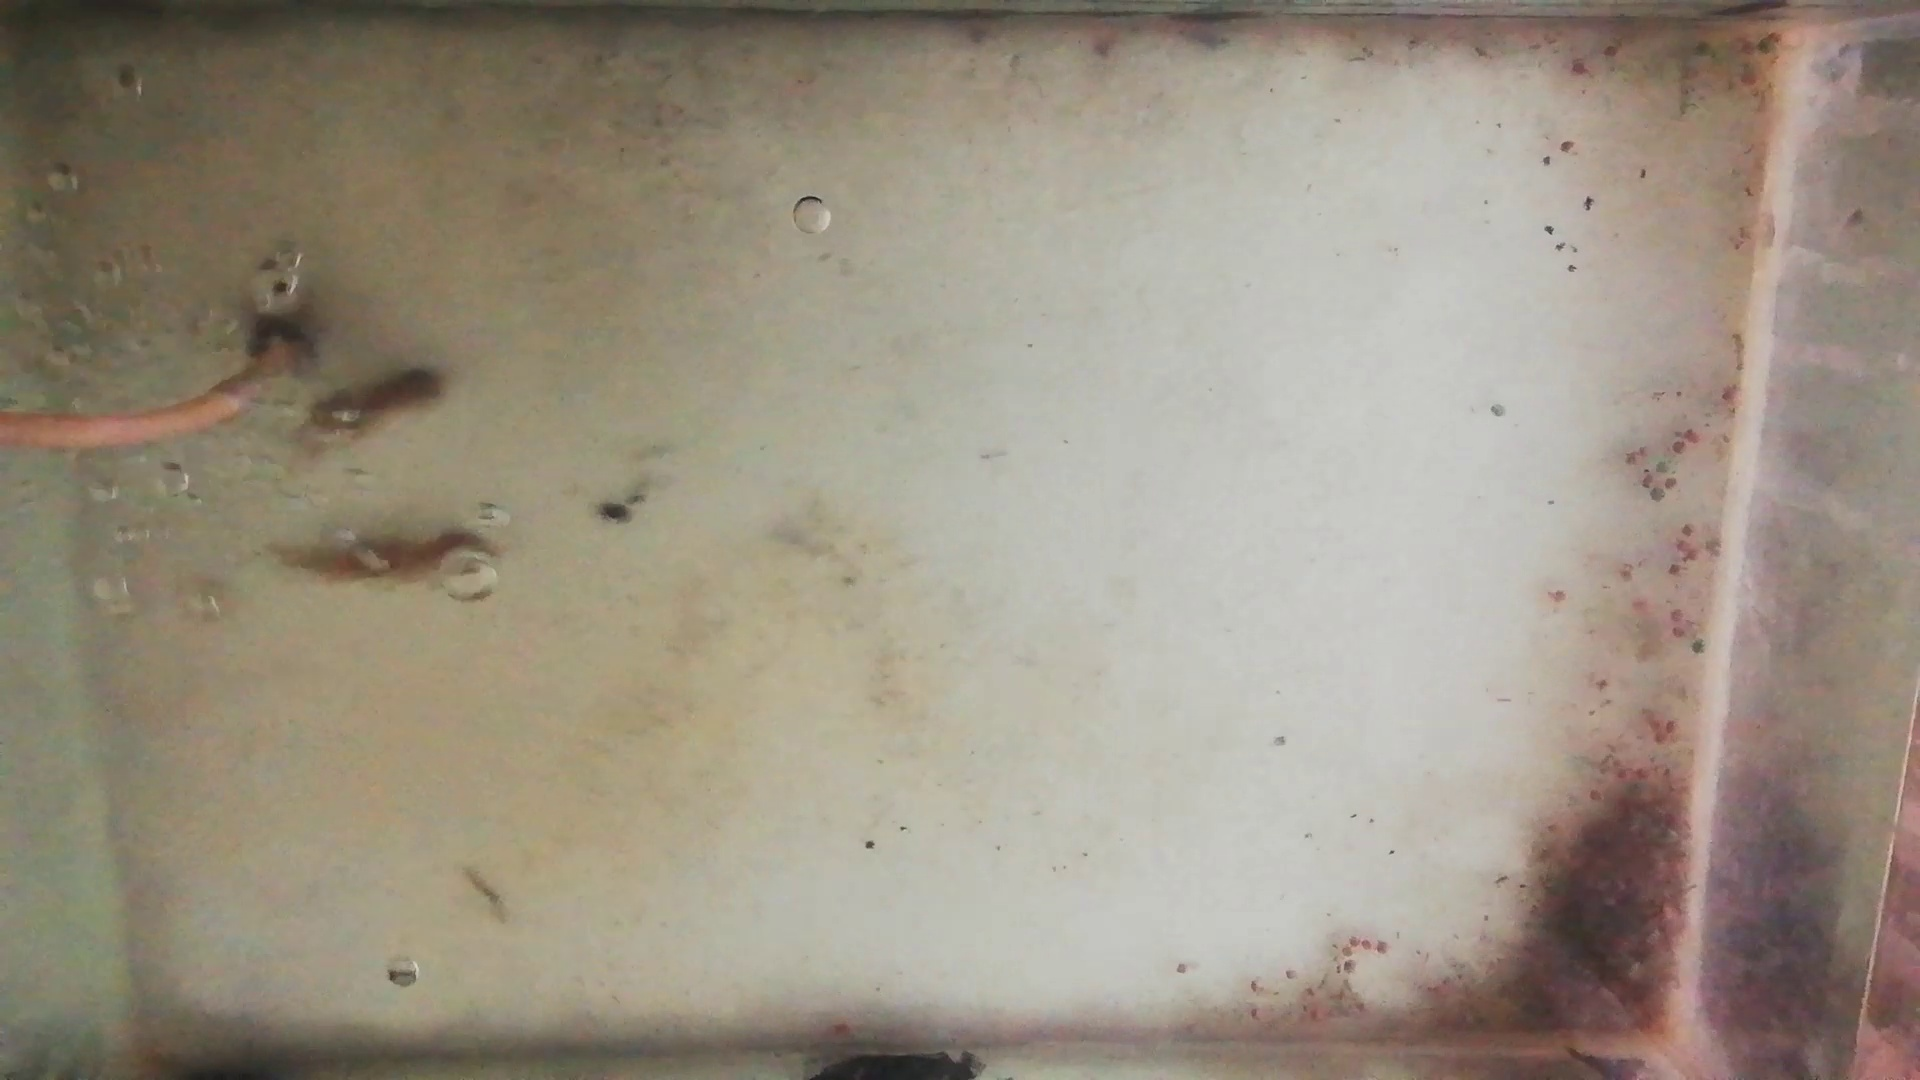fish: (262, 529, 502, 587), (290, 368, 444, 447)
